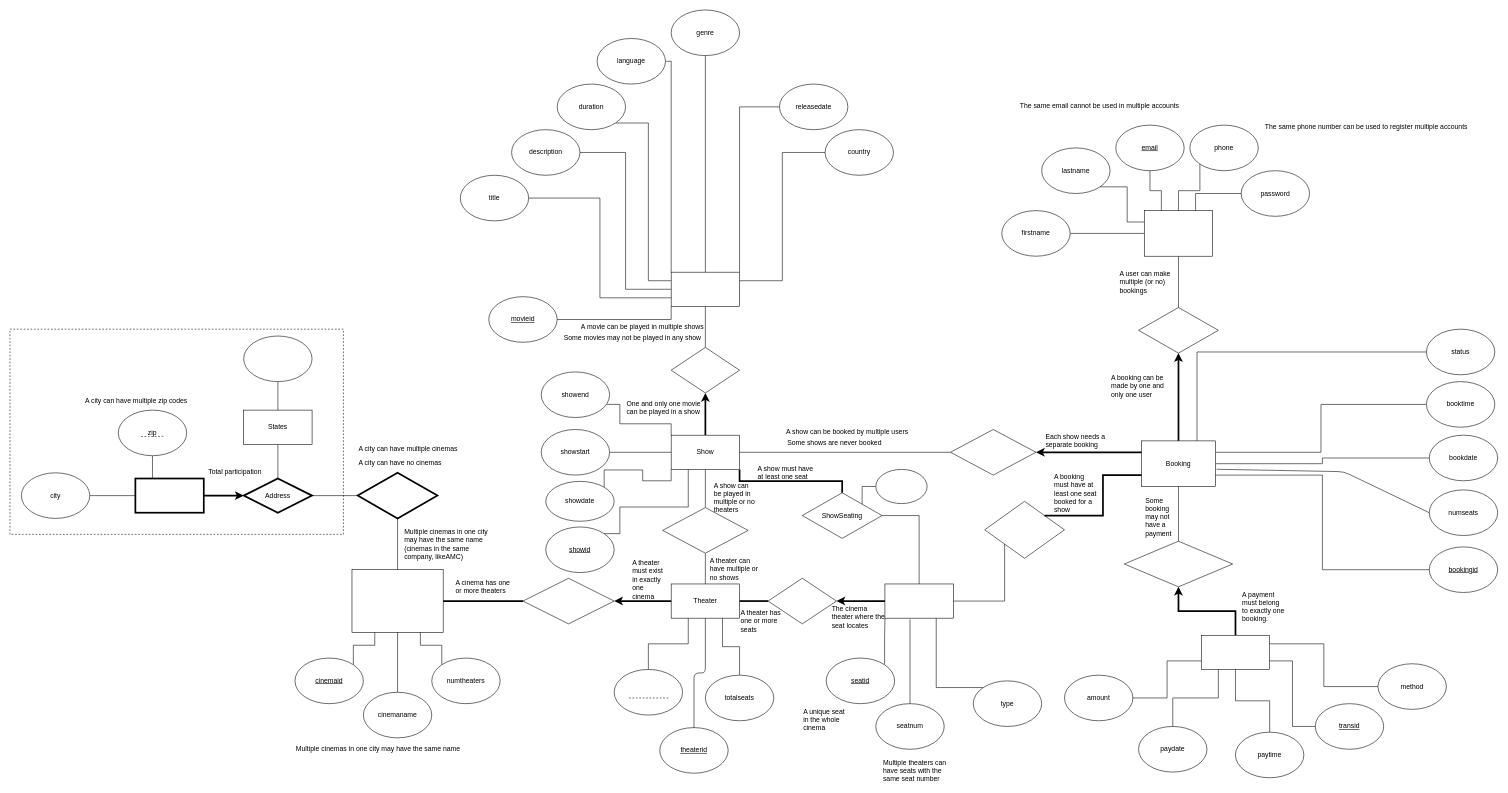
The diagram is 1508 pixels wide and 793 high, and some of its shapes have lost their labels. The shapes that lost their labels are listed below. From the top down, each one's box as (x1, y1, x2, y2) in pixels, then its label:
(1144, 210, 1213, 256): User
(671, 272, 740, 306): Movie
(1138, 307, 1218, 353): UserBooking
(243, 335, 312, 382): state
(671, 347, 740, 393): ShowMovie
(950, 429, 1036, 475): ShowBooking
(134, 477, 204, 513): Cities
(357, 472, 438, 519): CinemaAddress
(875, 469, 927, 504): Price
(662, 507, 748, 553): ShowTheater
(984, 501, 1064, 558): SeatingBooking
(1124, 541, 1233, 587): PaymentBooking
(351, 569, 443, 632): Cinema
(522, 578, 614, 624): CinemaTheater
(768, 578, 836, 624): TheaterSeating
(884, 583, 953, 618): Seating
(1201, 635, 1270, 669): Payment
(614, 669, 683, 715): theatername
